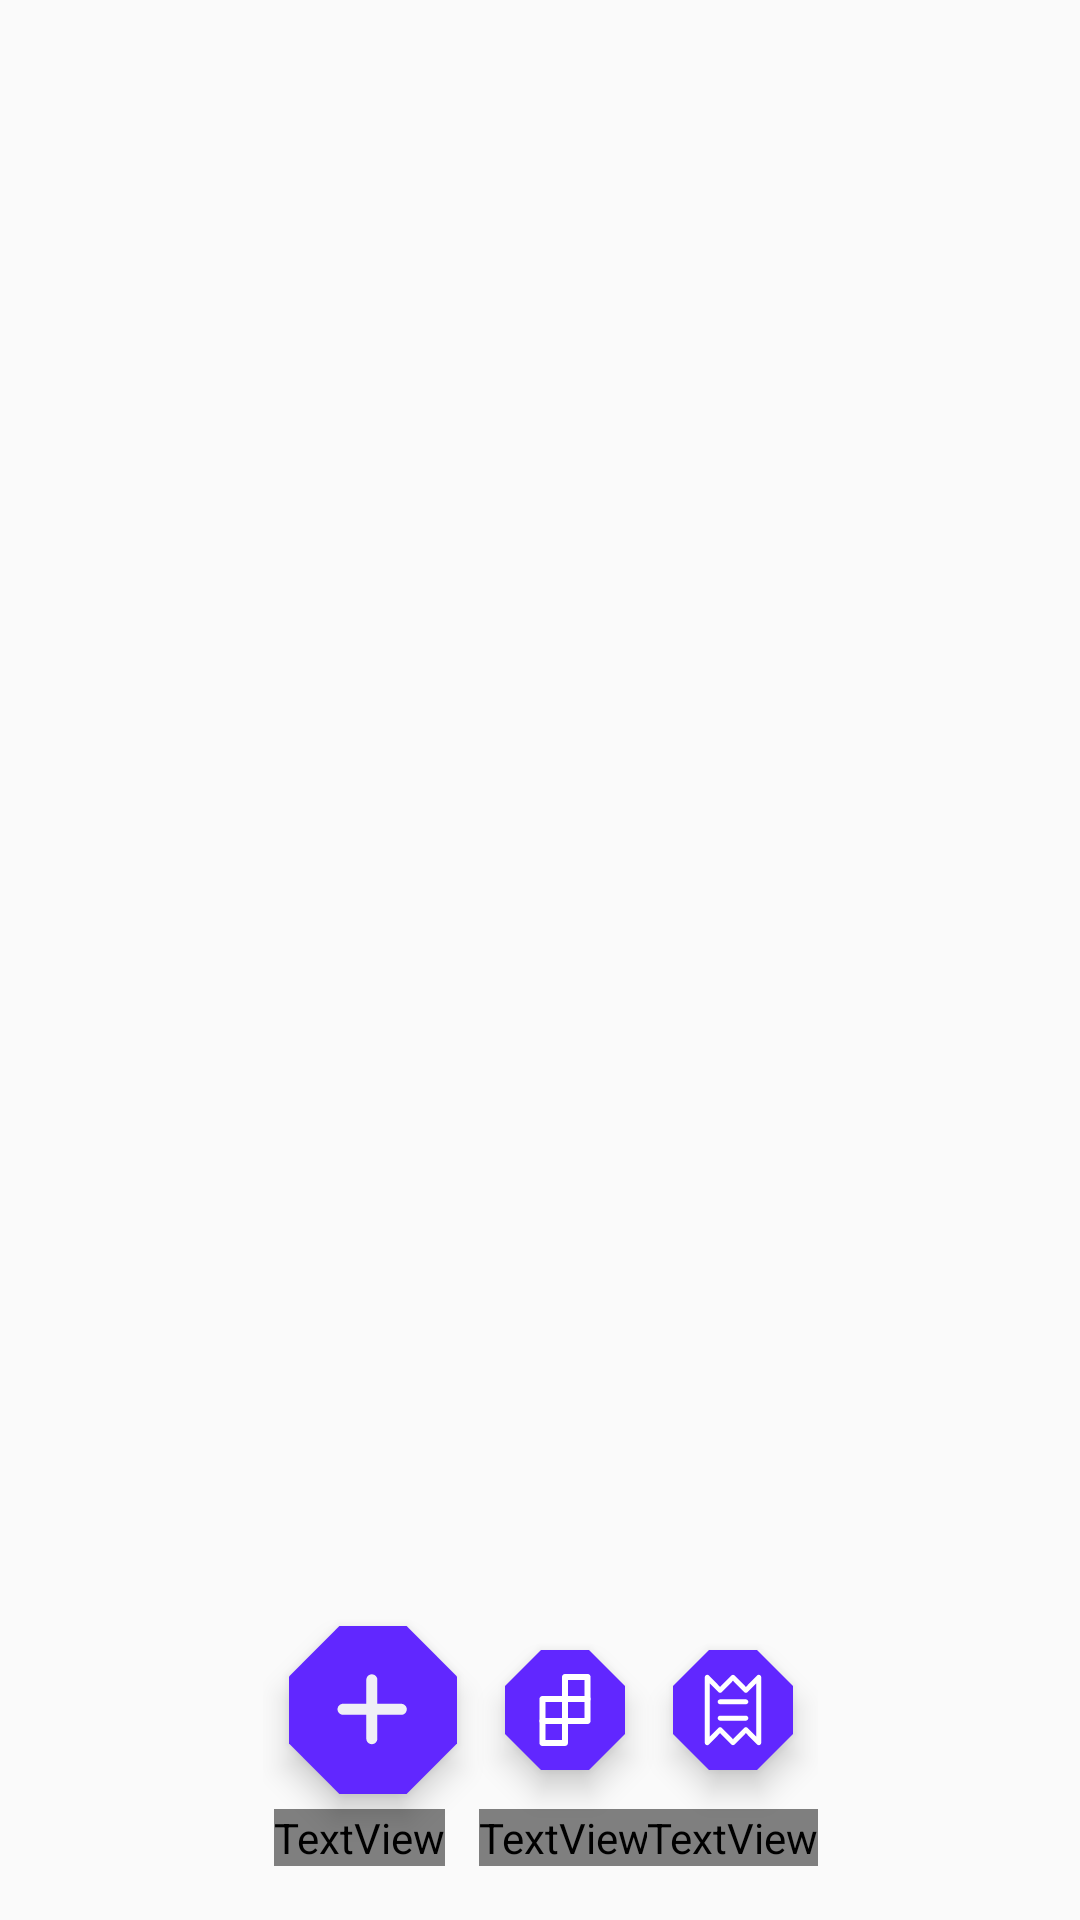

Where to tap for icons on this 1080w x 1920h app screen, as (x=x, y=y):
mas: (x=373, y=1710)
